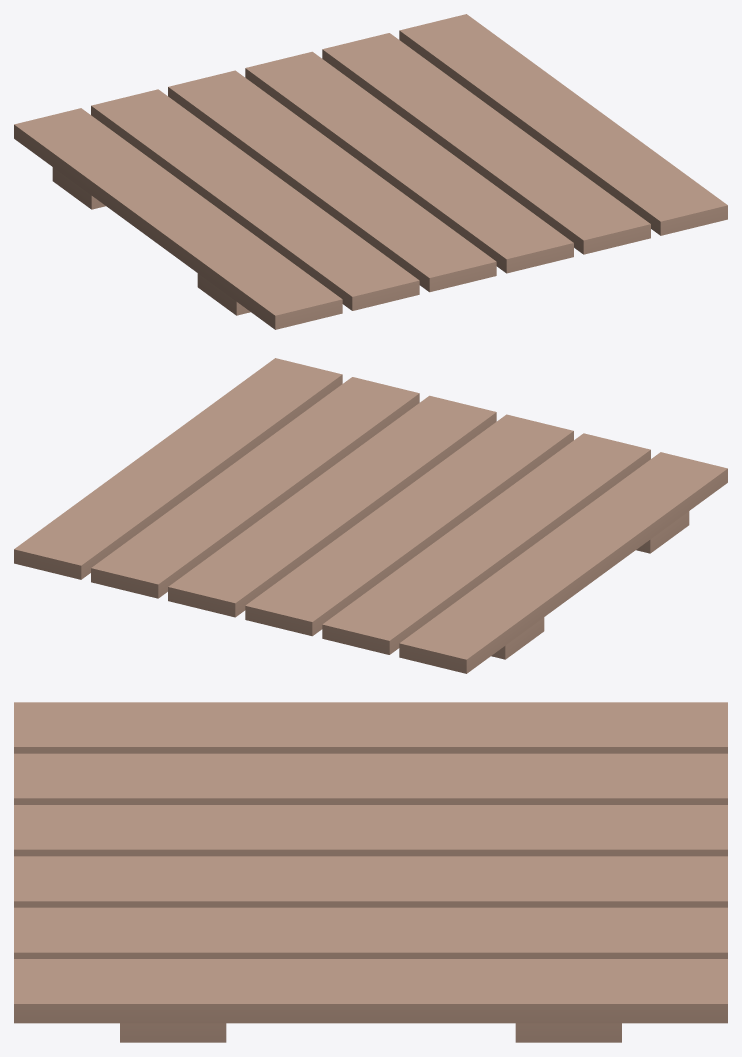
Rendered from planks.glb.
The picture shows the model from 3 angles, top to bottom: view 1: azimuth 30°, elevation 25°; view 2: azimuth 150°, elevation 25°; view 3: azimuth 270°, elevation 25°; orthographic projection. The views are drawn at different scales.
Visible parts, largest first — view 1: planks; view 2: planks; view 3: planks.
Boxes of the visible parts, x1=… form: planks: x1=14, y1=14, x2=727, y2=329; planks: x1=14, y1=358, x2=727, y2=673; planks: x1=14, y1=702, x2=727, y2=1042.
Size of the model in its own units: 1 by 0.06 by 1.
